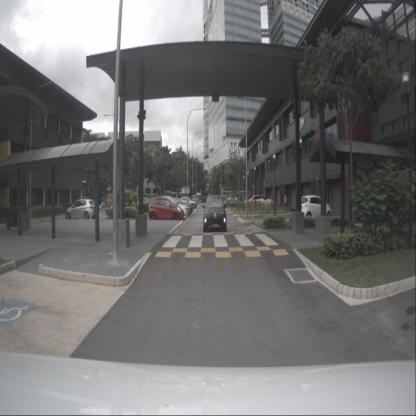human-pedestrian-adult: (284, 192, 289, 217)
movable_object-trafficcone: (251, 211, 255, 224), (232, 205, 236, 215), (228, 204, 232, 212), (240, 208, 243, 218), (226, 202, 229, 209)
vehicle-car: (297, 195, 332, 223), (148, 196, 184, 222), (203, 194, 227, 232), (155, 196, 188, 219), (66, 199, 98, 222), (160, 198, 187, 214), (244, 194, 264, 208), (221, 196, 242, 208), (177, 197, 197, 208)
vehicle-motorcycle: (6, 206, 24, 230)
vehicle-truck: (191, 192, 201, 204)
